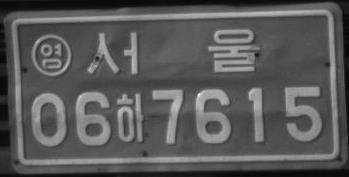0: (30, 92, 68, 147)
1: (239, 86, 275, 142)
5: (284, 85, 323, 143)
6: (74, 90, 111, 146), (194, 88, 231, 144)
7: (150, 88, 185, 145)
서울_D: (86, 27, 260, 75)
영: (31, 33, 72, 76)
하: (116, 91, 144, 142)
